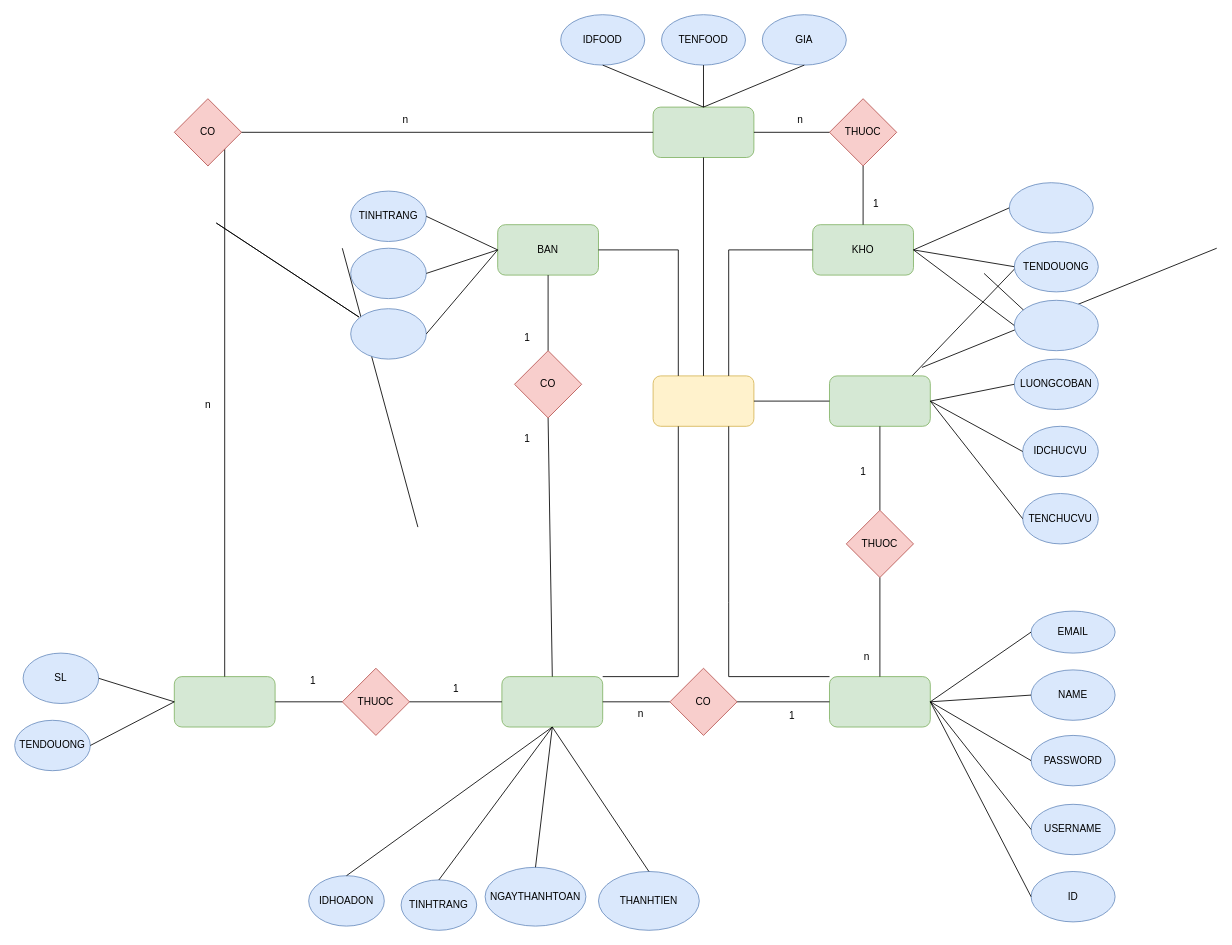
Some shapes in this 1232 by 945 pixel diagram are drawn without their labels. Each missing label, with the centre of its shape:
"ACCOUNT" belongs at (879,701).
"CHUCVU" belongs at (879,400).
"COFFEESHOP" belongs at (703,400).
"CTHD" belongs at (224,701).
"DOUONG" belongs at (703,132).
"HOADON" belongs at (552,701).
"IDBAN" belongs at (388,333).
"IDKHO" belongs at (1050,207).
"SOBAN" belongs at (388,273).
"SOLUONGCON" belongs at (1055,325).
